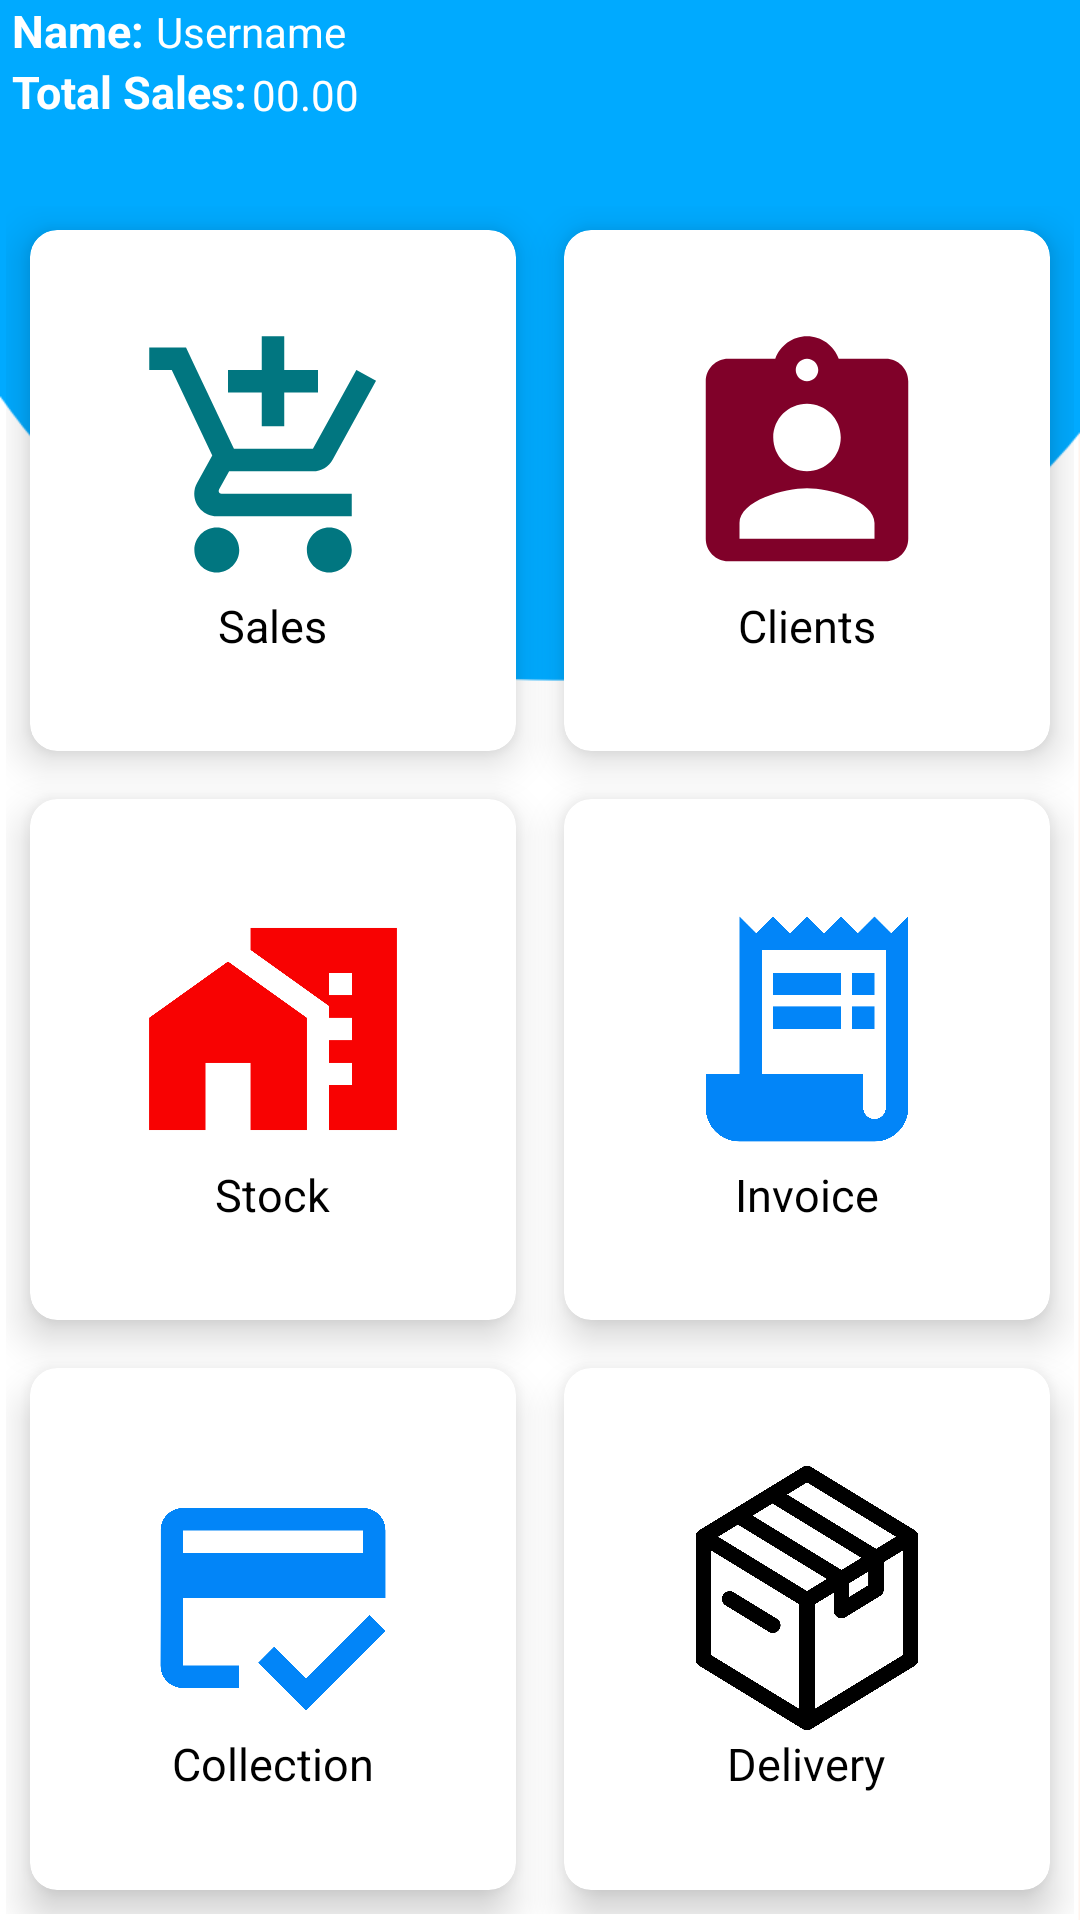

Named icons in this screenshot (1080 × 1920) and their bounding boxes, box(x1, y1, x2, y2):
add shopping cart: box(149, 336, 376, 573)
assignment ind: box(705, 336, 909, 562)
credit score: box(160, 1508, 386, 1710)
inventory: box(696, 1466, 918, 1730)
maps home work: box(149, 928, 397, 1130)
receipt long: box(706, 916, 908, 1142)
